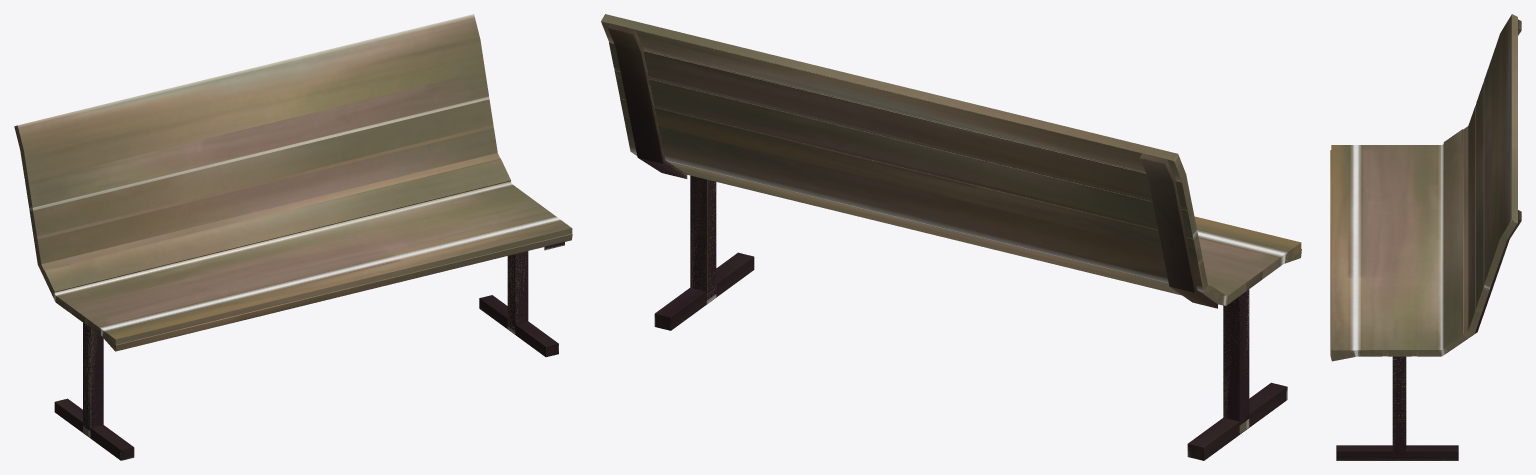
File: E_bench.fbx
3 renders of one model, left to right at view 1: azimuth 30°, elevation 25°; view 2: azimuth 150°, elevation 25°; view 3: azimuth 270°, elevation 25°, orthographic. The views are drawn at different scales.
Parts seen in each view (by area): view 1: mp_bench, hp_g_bench, lp_bench; view 2: hp_g_bench, mp_bench, lp_bench; view 3: mp_bench, hp_g_bench.
Boxes of the visible parts, x1,y1,x2,y2 form: mp_bench: (14,14,572,460); hp_g_bench: (14,71,572,460); lp_bench: (83,252,527,437); hp_g_bench: (601,21,1301,460); mp_bench: (601,14,1301,458); lp_bench: (690,177,1249,433); mp_bench: (1331,14,1521,460); hp_g_bench: (1330,29,1521,460).
Bounding box in the file's own units: 140 × 78.49 × 55.15.
